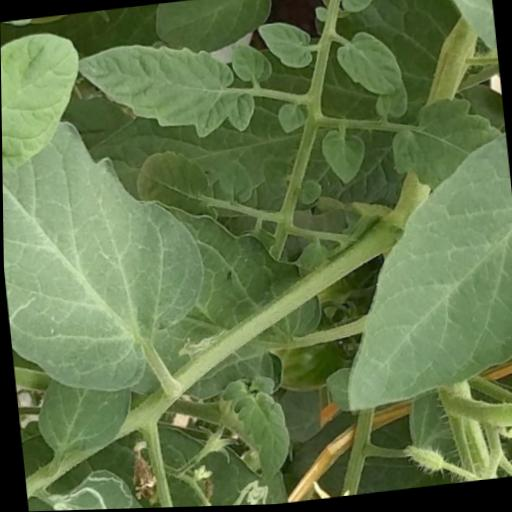Healthy: (1, 106, 216, 404), (319, 131, 512, 417), (73, 27, 259, 153), (0, 26, 92, 179), (331, 27, 407, 104), (254, 16, 317, 73)
Leaf_Miner: (43, 460, 149, 511), (214, 477, 273, 507)
